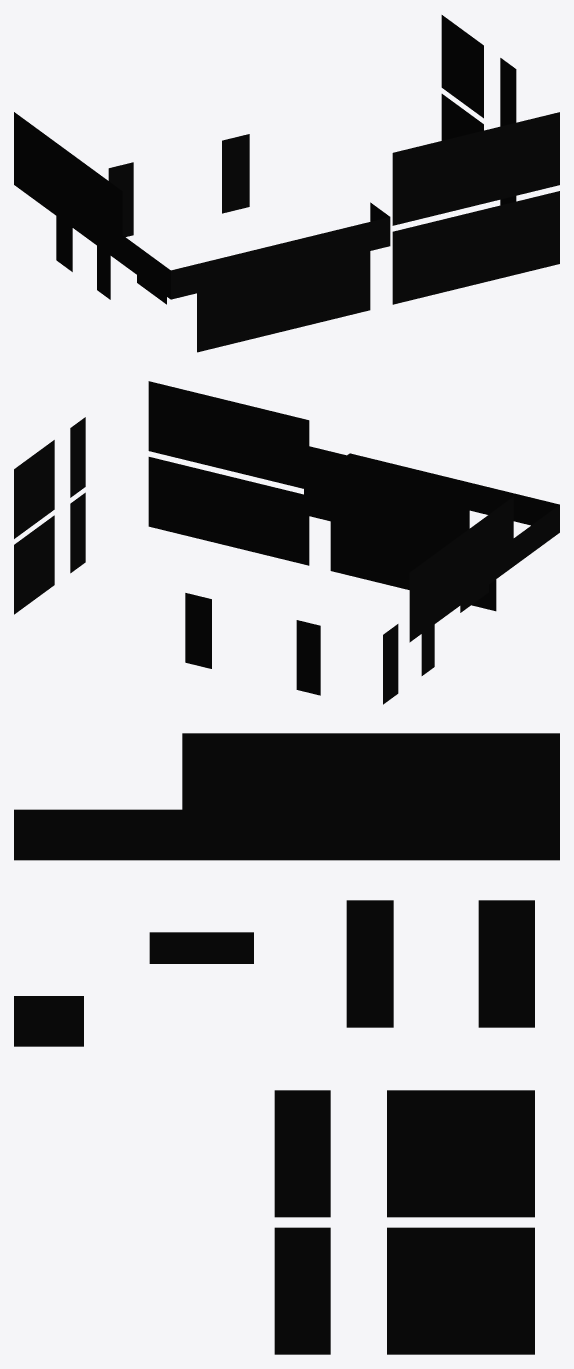
The model's file is villaF_cristales.obj.
The picture shows the model from 3 angles, top to bottom: view 1: azimuth 30°, elevation 25°; view 2: azimuth 150°, elevation 25°; view 3: azimuth 270°, elevation 25°; orthographic projection. The views are drawn at different scales.
Parts seen in each view (by area): view 1: Plane.020, Plane.006, Plane.010, Plane.033, Plane.027, Plane.022, Plane.014, Plane.001, Plane.015, 2PLANTA-paredes.002_Plane.037, Plane.012, Plane.013; view 2: Plane.023, Plane.006, Plane.020, Plane.027, Plane.010, Plane.033, Plane.001, Plane.022, Plane.014, Plane.015, Plane.002, Plane.012 (+2 smaller); view 3: Plane.027, Plane.022, Plane.001, Plane.033, Plane.012, Plane.002, 2PLANTA-paredes.002_Plane.037, Plane.013, Plane.011.
Boxes of the visible parts, <box> form: Plane.020: <box>392,112,559,225</box>; Plane.006: <box>392,191,559,304</box>; Plane.010: <box>197,251,370,352</box>; Plane.033: <box>122,202,390,299</box>; Plane.027: <box>14,112,122,263</box>; Plane.022: <box>441,15,483,118</box>; Plane.014: <box>222,134,249,213</box>; Plane.001: <box>441,94,483,140</box>; Plane.015: <box>108,162,133,236</box>; 2PLANTA-paredes.002_Plane.037: <box>500,58,516,126</box>; Plane.012: <box>56,216,72,271</box>; Plane.013: <box>97,246,110,299</box>; Plane.023: <box>304,445,469,548</box>; Plane.006: <box>148,457,309,565</box>; Plane.020: <box>148,381,309,488</box>; Plane.027: <box>409,497,513,642</box>; Plane.010: <box>330,521,496,611</box>; Plane.033: <box>347,453,559,565</box>; Plane.001: <box>14,515,54,614</box>; Plane.022: <box>14,440,54,538</box>; Plane.014: <box>185,593,211,668</box>; Plane.015: <box>296,620,320,695</box>; Plane.002: <box>70,492,85,573</box>; Plane.012: <box>383,624,398,704</box>; Plane.027: <box>182,733,559,860</box>; Plane.022: <box>387,1090,534,1217</box>; Plane.001: <box>387,1227,534,1354</box>; Plane.033: <box>14,809,182,1046</box>; Plane.012: <box>478,900,534,1027</box>; Plane.002: <box>274,1227,330,1354</box>; 2PLANTA-paredes.002_Plane.037: <box>274,1090,330,1217</box>; Plane.013: <box>346,900,393,1027</box>; Plane.011: <box>149,932,253,963</box>.
Bounding box in the file's own units: 15.06 × 5.2 × 9.74.
2 materials, 1 textured.
